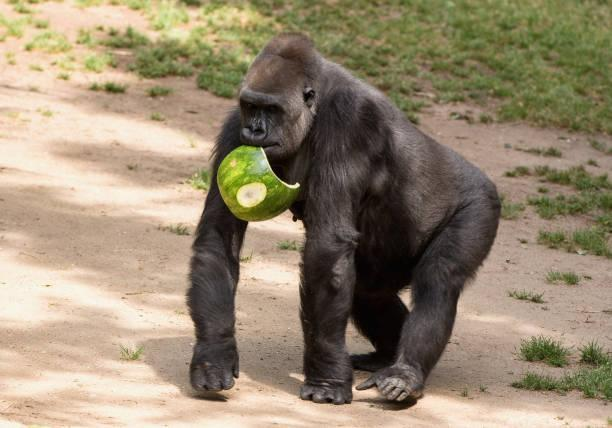gorille_Autres: (181, 20, 514, 414)
